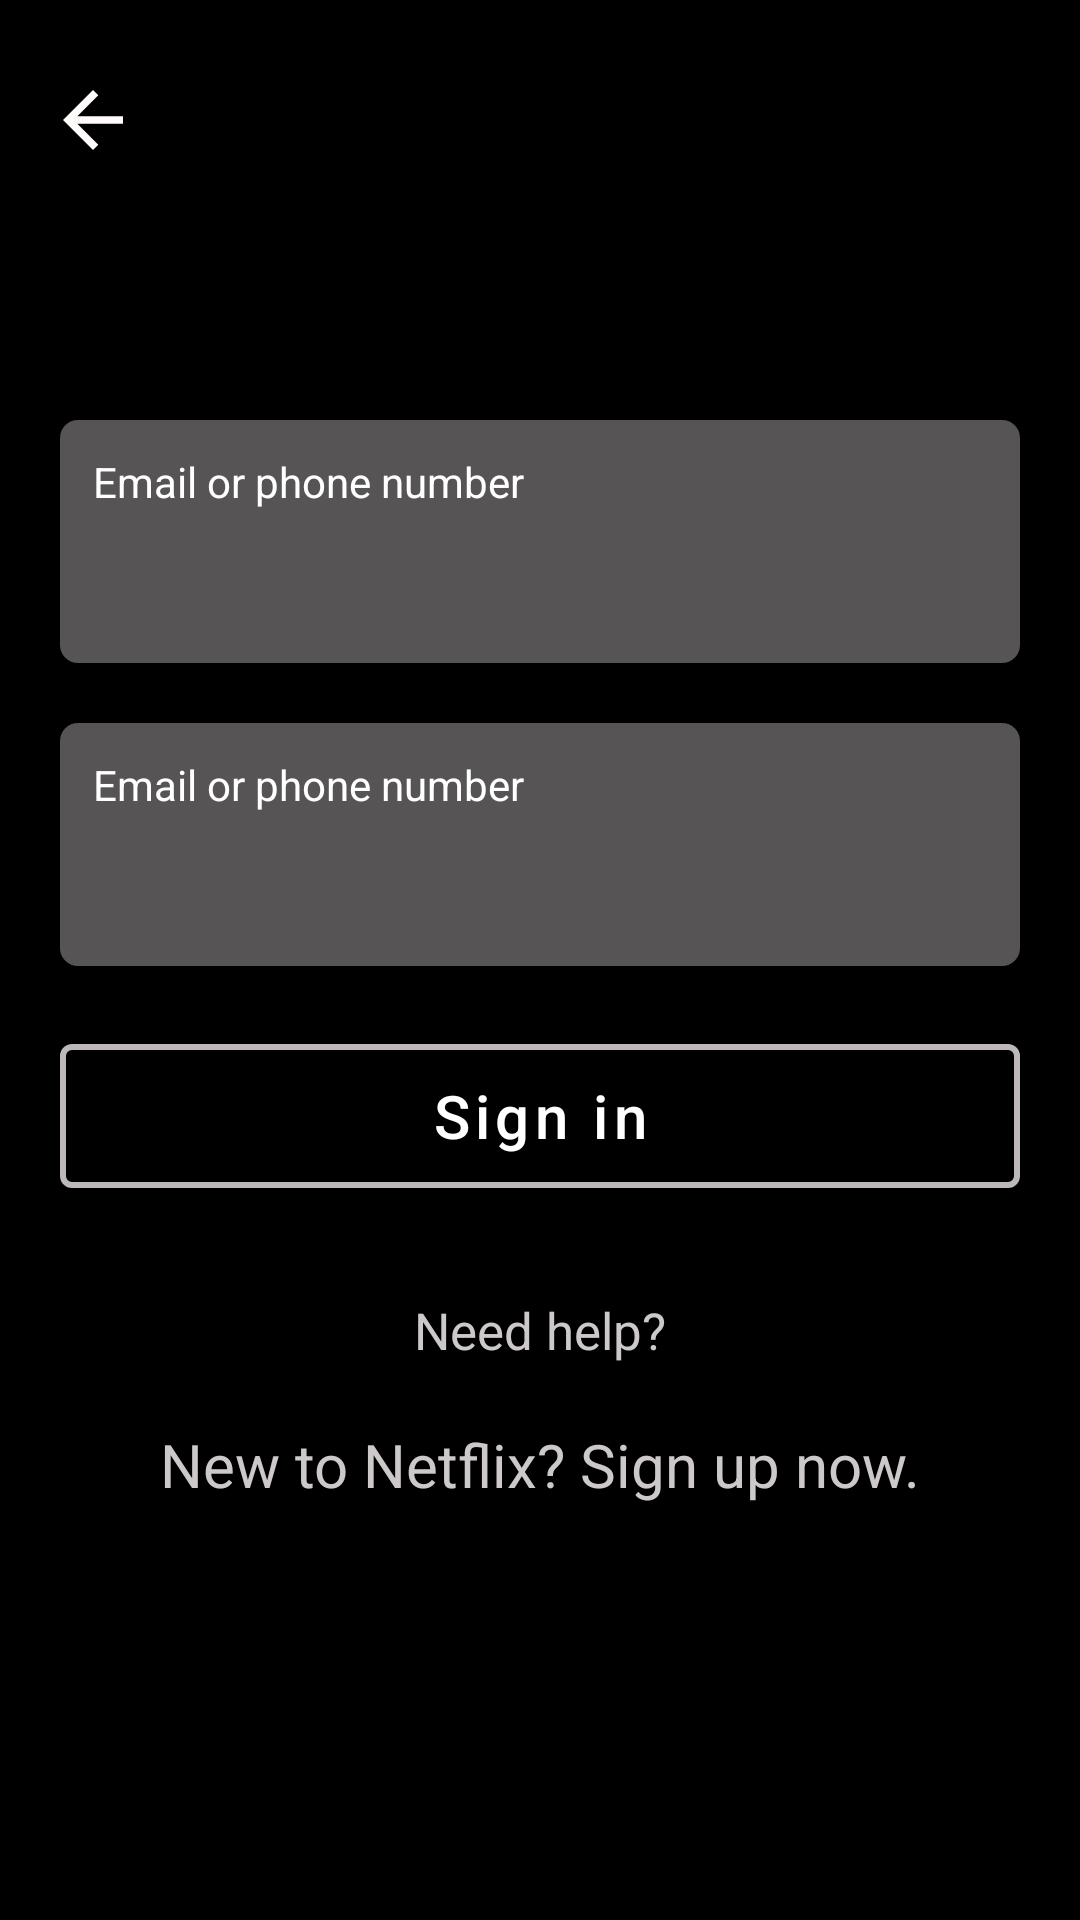

Screen size 1080 × 1920. Icon name, then its box in pixels as bbox=[x1, y1, x2, y2]:
arrow back: bbox=[63, 90, 123, 150]
